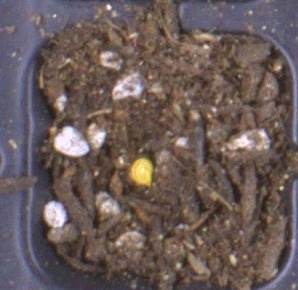chilli seed: (130, 157, 154, 188)
